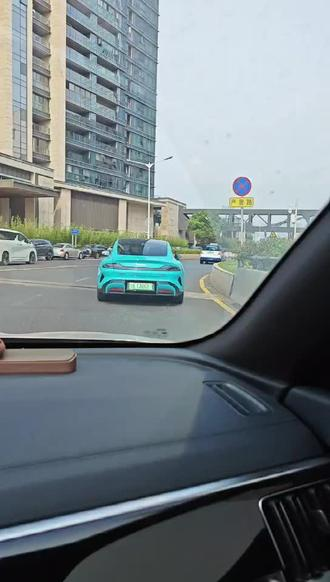other: (0, 229, 39, 266), (199, 242, 232, 268), (53, 242, 84, 261)
su7: (99, 236, 180, 302)
